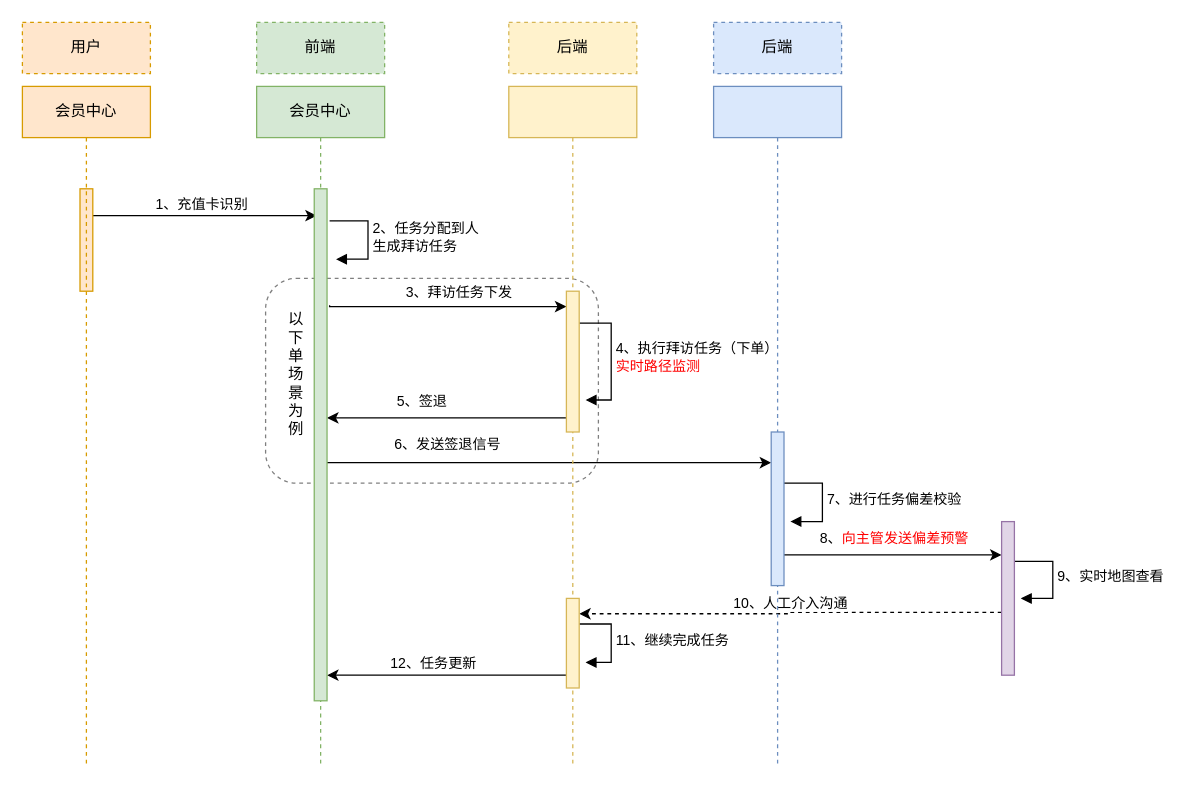
This 1187x787 diagram has some shape labels left out. Each missing label, with the centre of its shape:
DSFA: point (572, 425)
低代码: point (777, 425)
